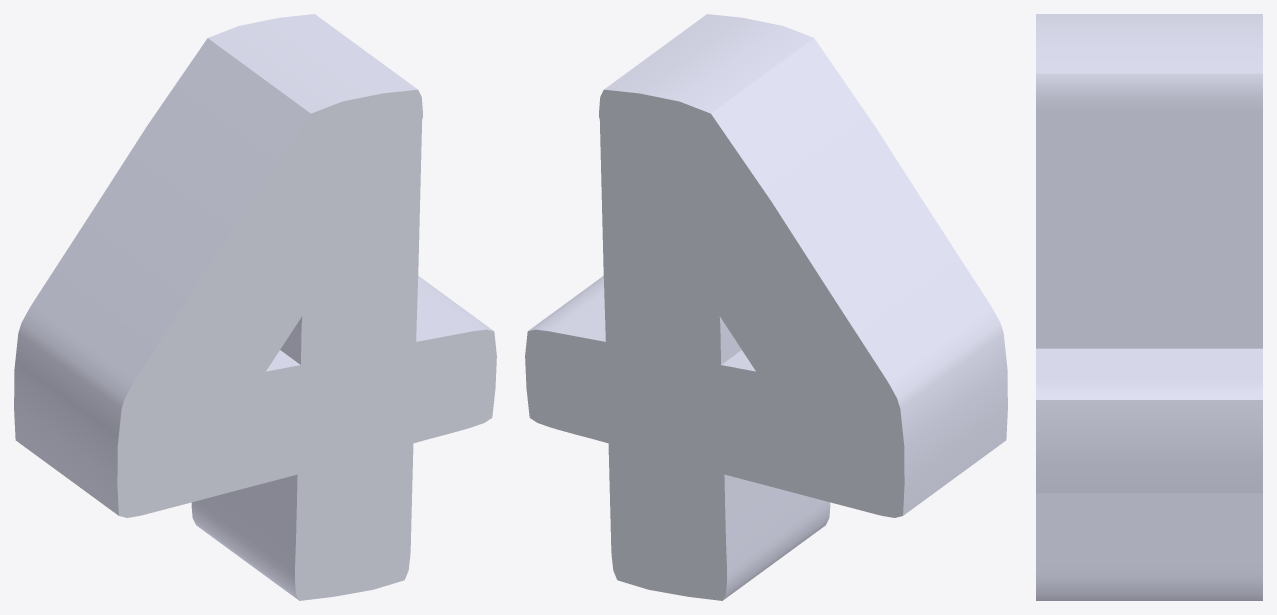
The model's file is 2cbc5ae6-539b-42b8-8969-b24731005e46.glb.
3 renders of one model, left to right at view 1: azimuth 30°, elevation 25°; view 2: azimuth 150°, elevation 25°; view 3: azimuth 270°, elevation 25°, orthographic. The views are drawn at different scales.
Parts seen in each view (by area): view 1: 4_Zyzol_Grey; view 2: 4_Zyzol_Grey; view 3: 4_Zyzol_Grey.
Boxes of the visible parts, bbox=[...] form: 4_Zyzol_Grey: bbox=[14, 14, 496, 600]; 4_Zyzol_Grey: bbox=[525, 14, 1007, 600]; 4_Zyzol_Grey: bbox=[1036, 14, 1262, 600].
Size of what is drawn, in the model's own units: 0.0954 by 0.1191 by 0.045.
2 materials, 2 textured.
